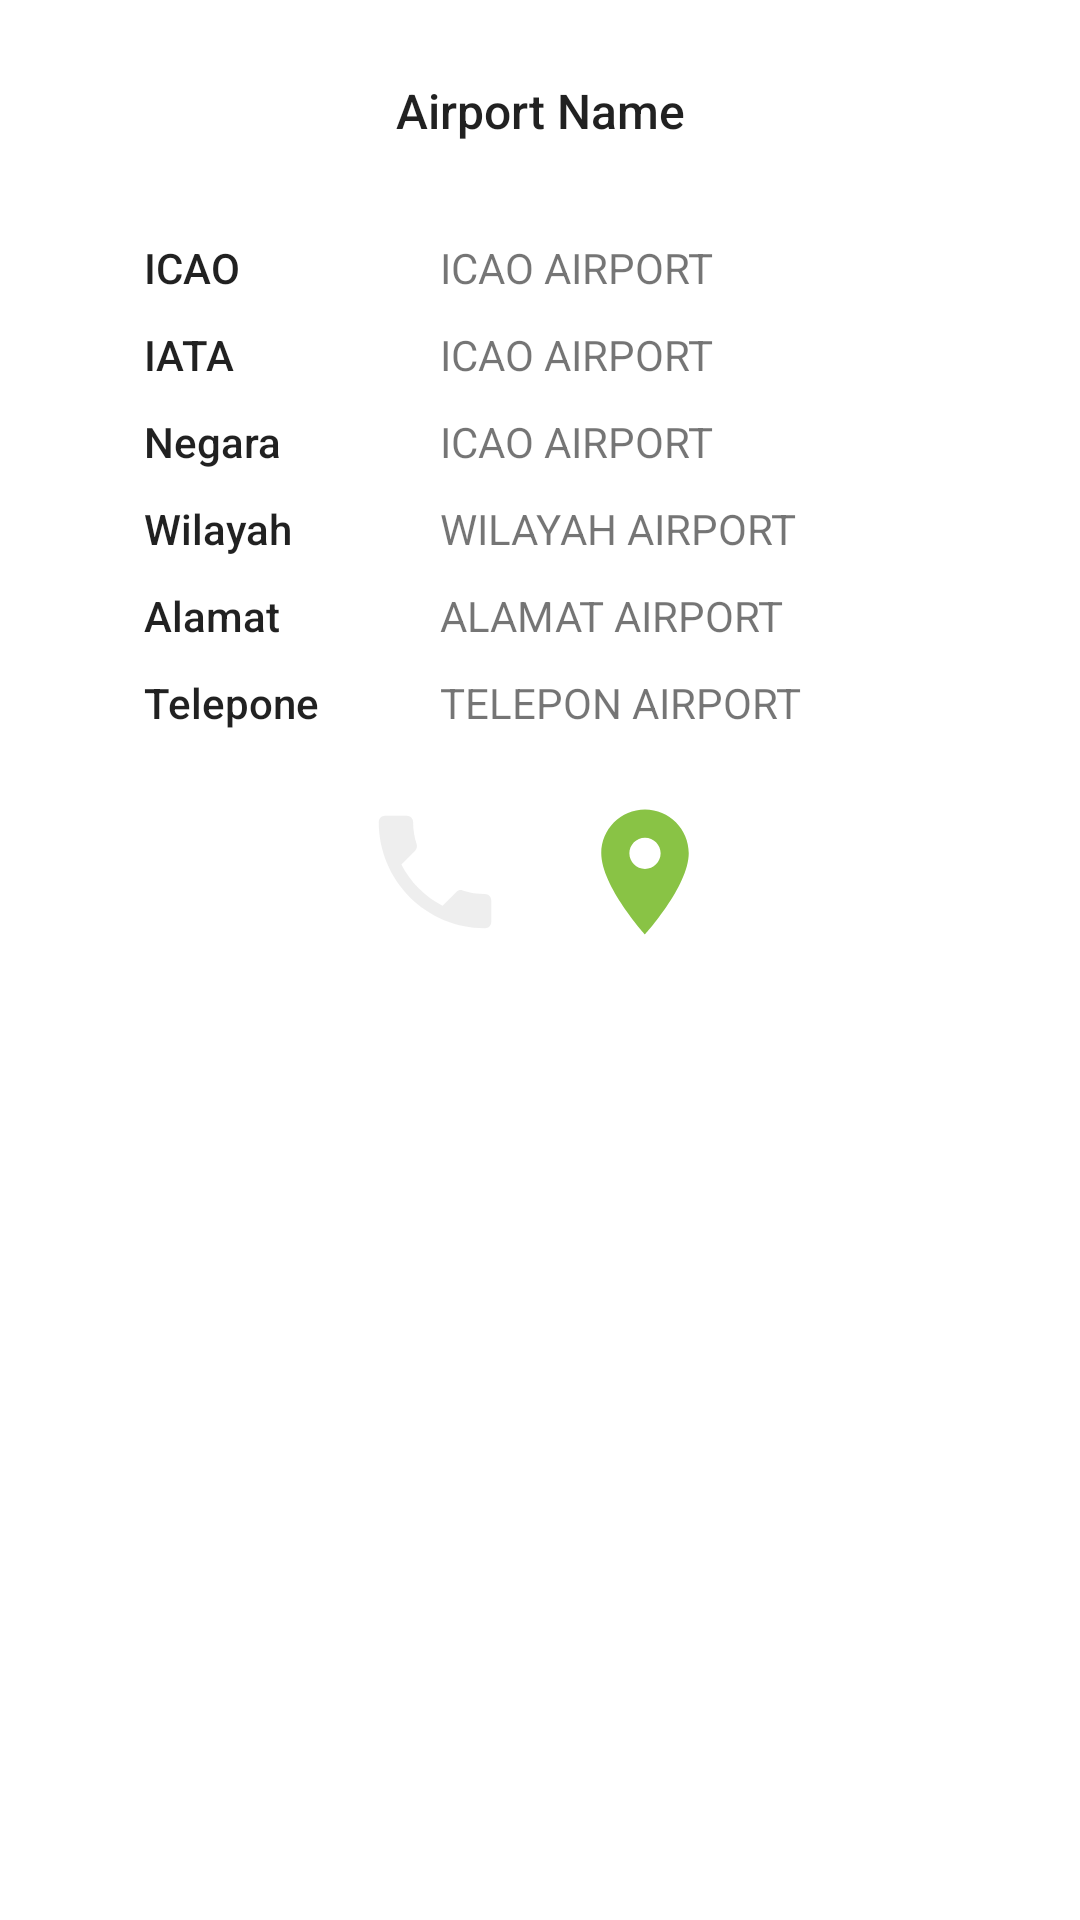

Point at icon controls on the screen. Image size 1080 x 1920, points as [x,y].
location: [645,872]
